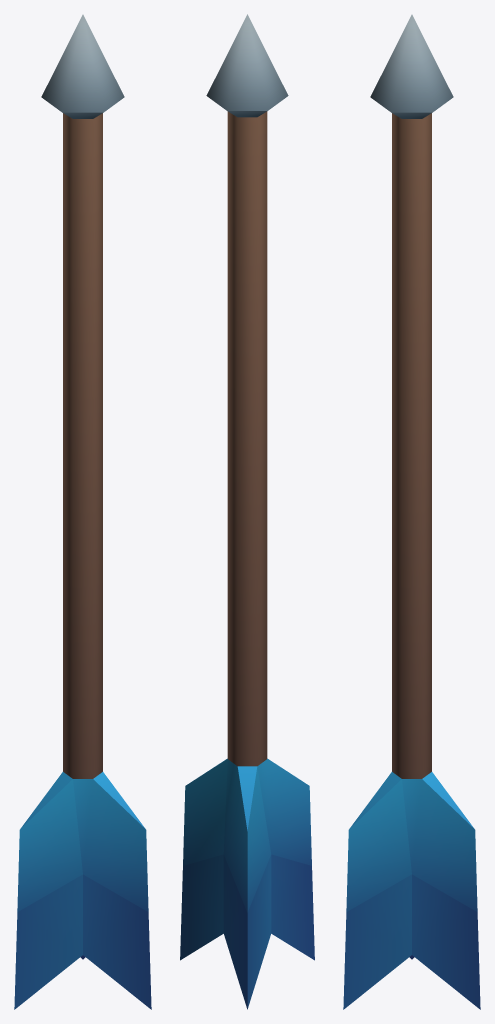
The model's file is arrow_A.glb.
3 views of the same model, side by side, from view 1: azimuth 30°, elevation 25°; view 2: azimuth 210°, elevation 25°; view 3: azimuth 270°, elevation 25° (orthographic).
Visible parts, largest first — view 1: arrow_A; view 2: arrow_A; view 3: arrow_A.
Part boxes in pixels (x1=…): arrow_A: x1=14, y1=14, x2=151, y2=1009; arrow_A: x1=180, y1=14, x2=314, y2=1009; arrow_A: x1=343, y1=14, x2=480, y2=1009.
Size of the model in its own units: 0.0668 by 0.6072 by 0.0771.
1 material, 1 textured.
